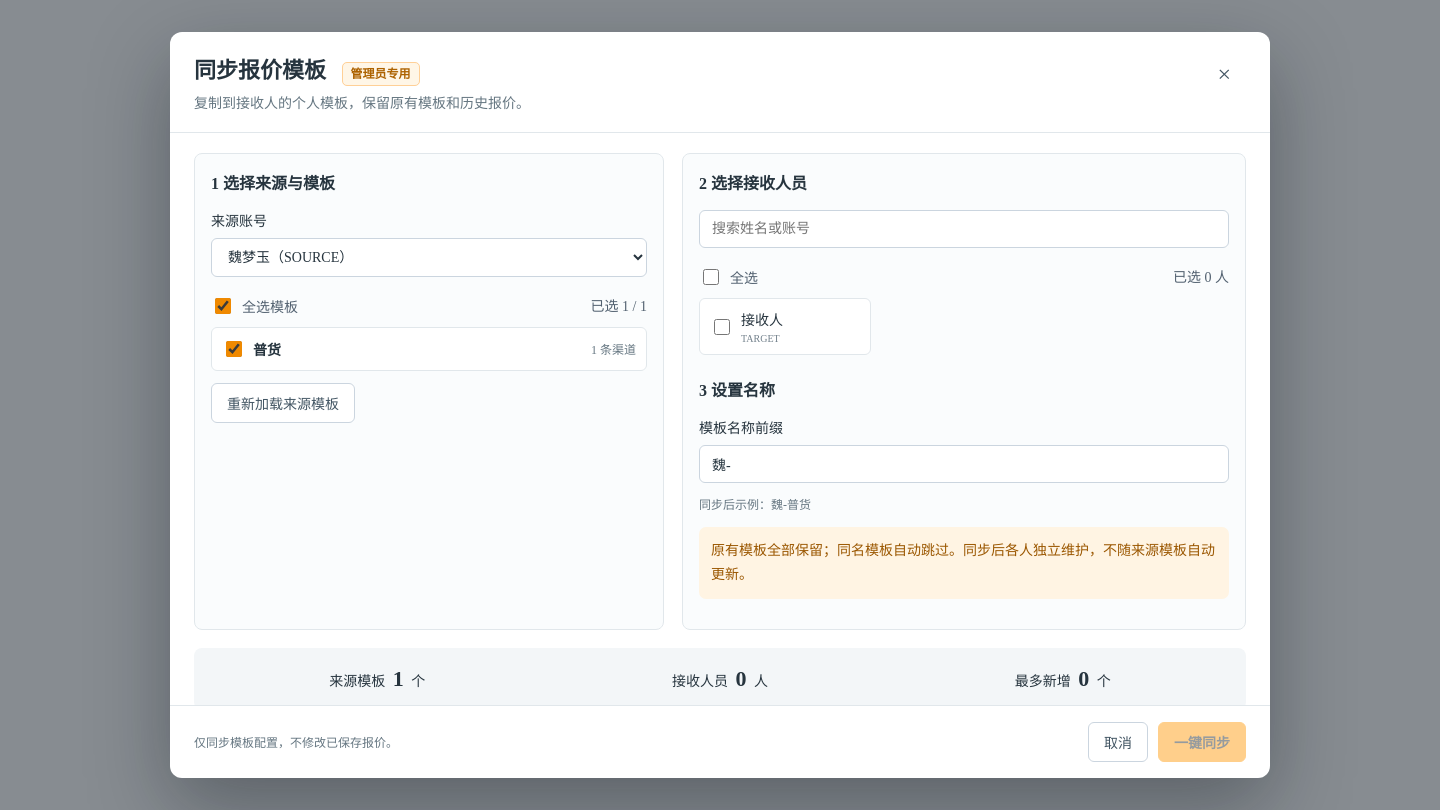
Test case: defaults to current source, excludes self and submits selected versions with the prefix
Expected: the button "一键同步" is disabled, [1158,722,1246,762]
Click the checkbox labelled "接收人 TARGET" at (722, 327), box [714,319,730,335]
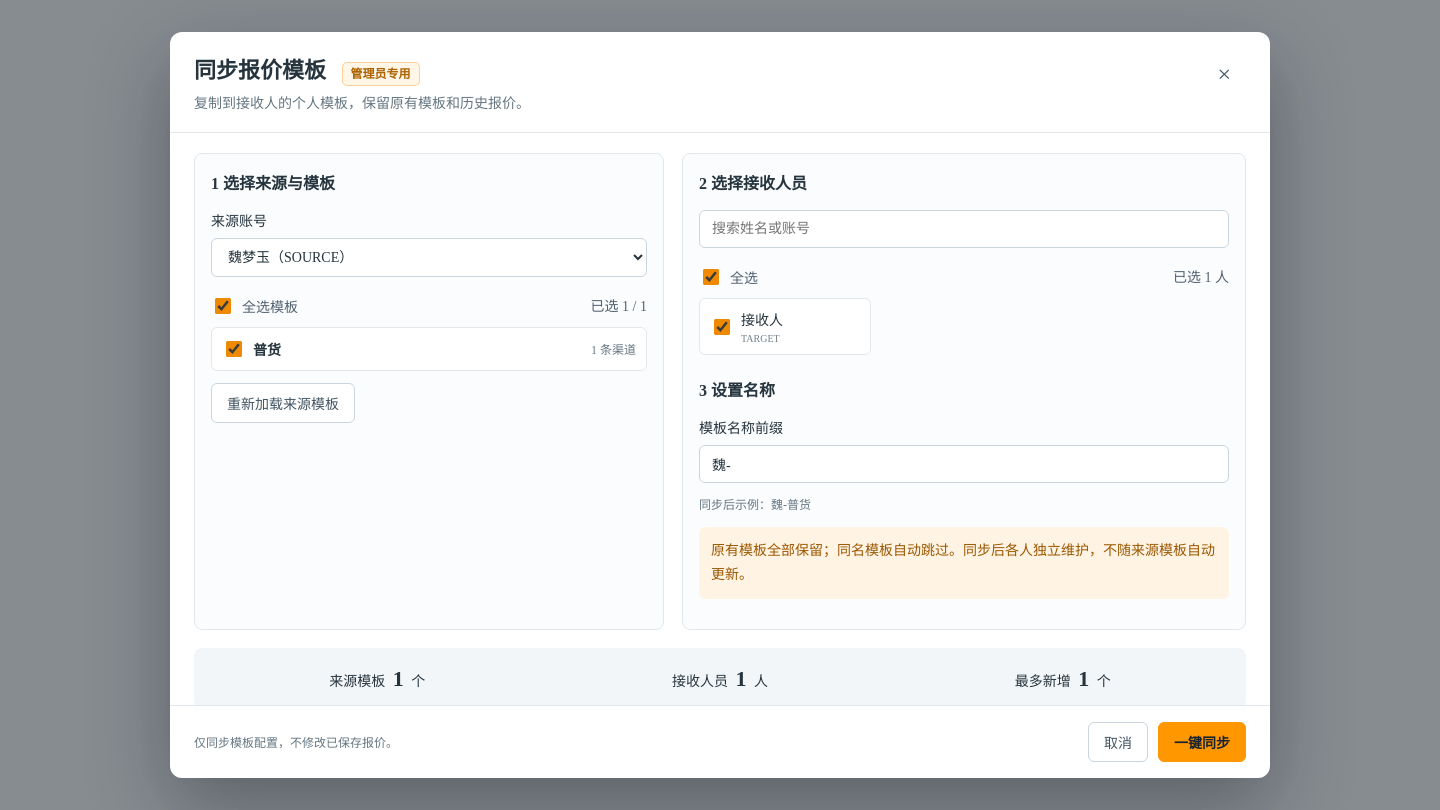
Click the button "一键同步" at (1202, 742), box [1158,722,1246,762]
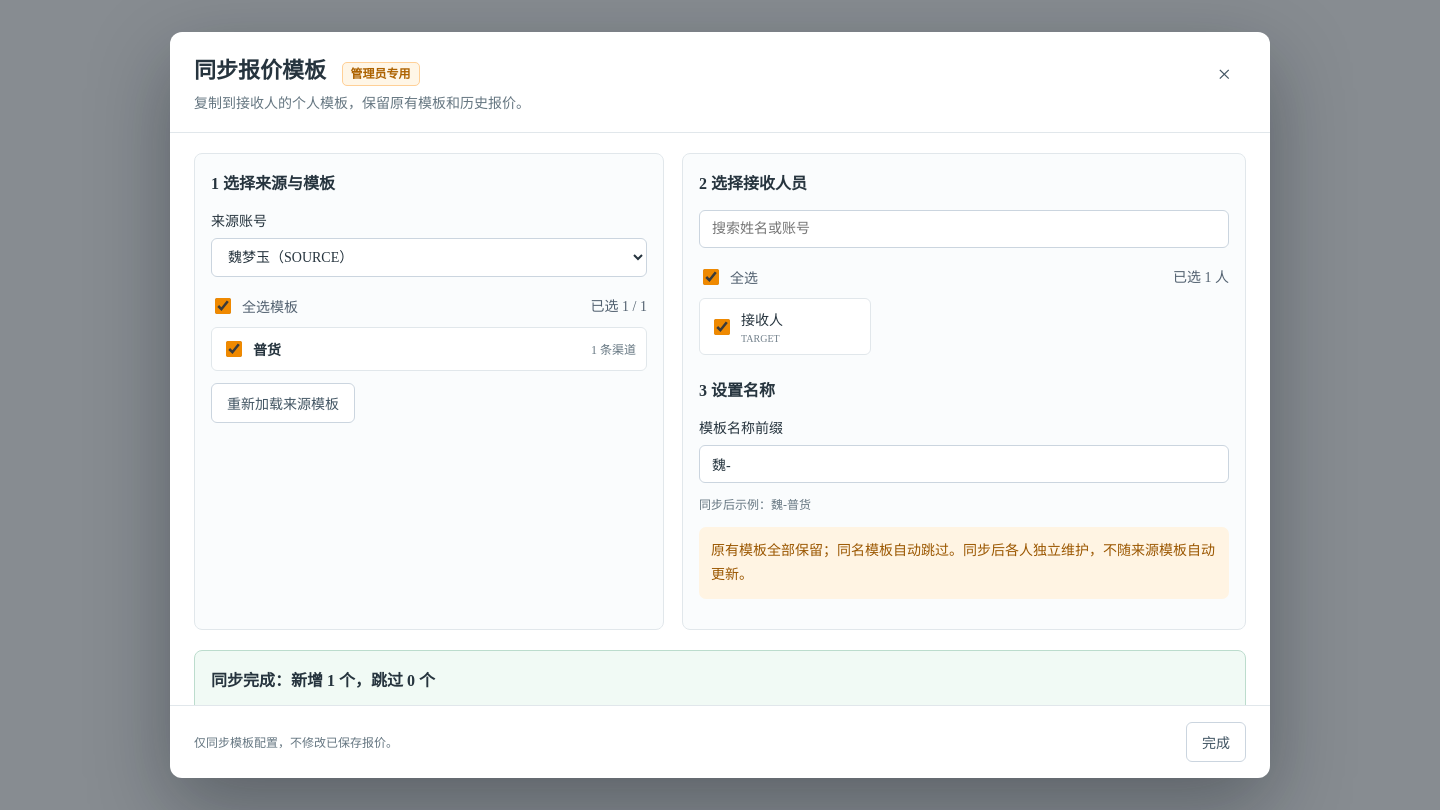
Result: the text "同步完成：新增 1 个" is shown at [211,672,435,689]
